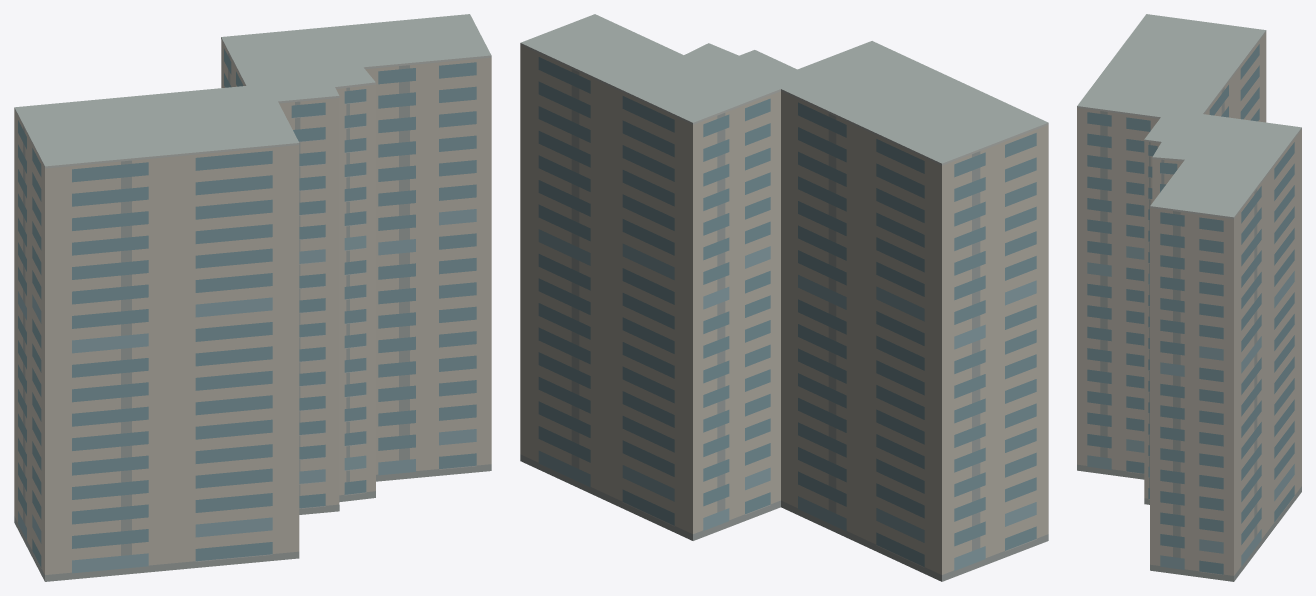
File: residential-ee43deb5-feca-4441-bf7c-0eda161843cf.glb
3 views of the same model, side by side, from view 1: azimuth 30°, elevation 25°; view 2: azimuth 150°, elevation 25°; view 3: azimuth 270°, elevation 25° (orthographic). The views are drawn at different scales.
Visible parts, largest first — view 1: residential-ee43deb5-feca-4441-bf7c-0eda161843cf.tmp; view 2: residential-ee43deb5-feca-4441-bf7c-0eda161843cf.tmp; view 3: residential-ee43deb5-feca-4441-bf7c-0eda161843cf.tmp.
Boxes of the visible parts, x1,y1,x2,y2 form: residential-ee43deb5-feca-4441-bf7c-0eda161843cf.tmp: (14,14,491,581); residential-ee43deb5-feca-4441-bf7c-0eda161843cf.tmp: (520,14,1048,581); residential-ee43deb5-feca-4441-bf7c-0eda161843cf.tmp: (1077,14,1301,581).
Size of the model in its own units: 57.42 by 48 by 26.83.
